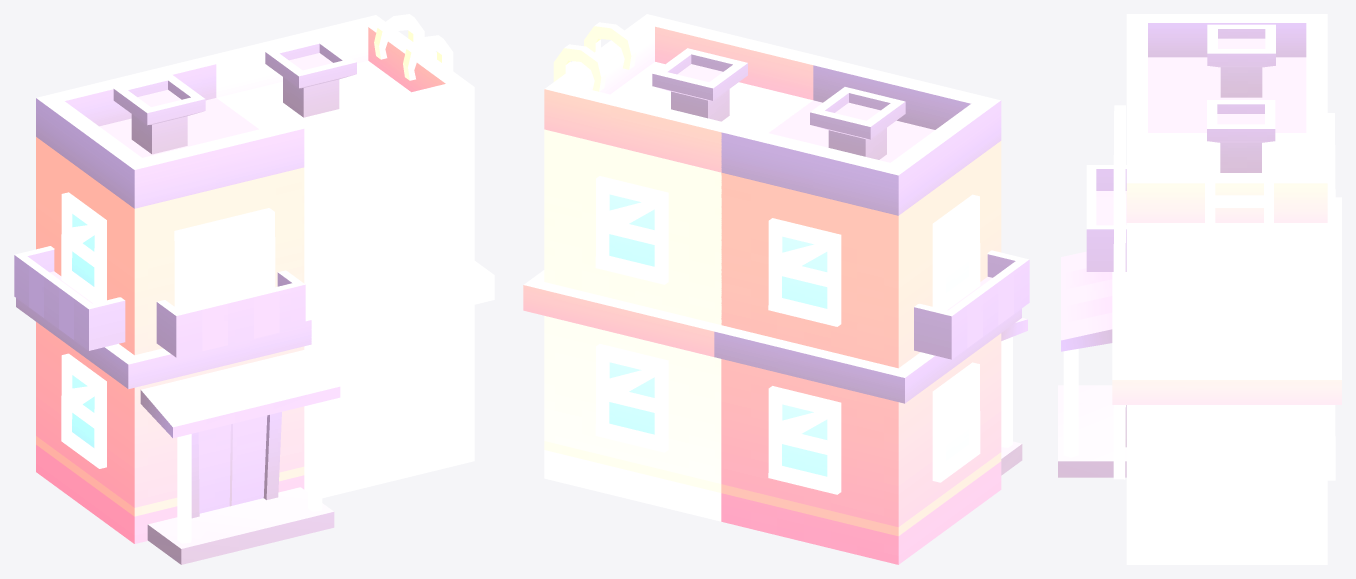
File: house2.glb
3 views of the same model, side by side, from view 1: azimuth 30°, elevation 25°; view 2: azimuth 150°, elevation 25°; view 3: azimuth 270°, elevation 25° (orthographic). The views are drawn at different scales.
Visible parts, largest first — view 1: house_I_2; view 2: house_I_2; view 3: house_I_2.
Boxes of the visible parts, <box> form: house_I_2: <box>14,14,494,564</box>; house_I_2: <box>523,14,1029,564</box>; house_I_2: <box>1058,14,1341,564</box>.
Bounding box in the file's own units: 3.25 × 3.1 × 1.99.
